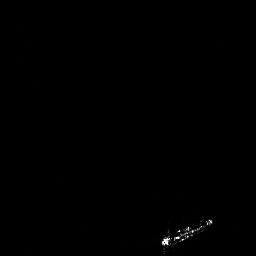ship: (158, 213, 216, 250)
